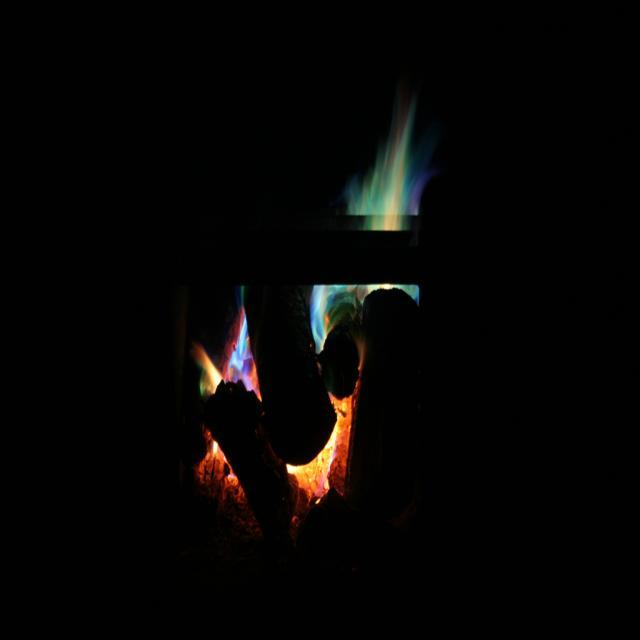Fire: (294, 448, 334, 508), (358, 176, 420, 212), (227, 334, 249, 382), (312, 280, 330, 334)
